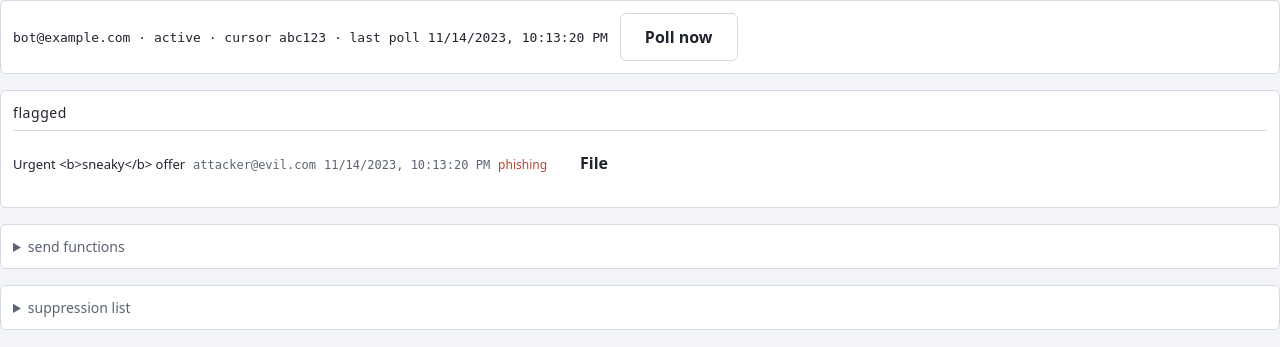
Test: flagged queue renders subject/sender/received/reason as literal text and File refiles the row away
The width and height of the screenshot is (1280, 347).
Expected: the text "Urgent <b>sneaky</b> offer" is shown, top-left (13, 155), bottom-right (185, 173)
Expected: the text "attacker@evil.com" is shown, top-left (193, 158), bottom-right (316, 172)
What coordinates should you click on to do the following:
click the button "File"
I would click on:
 (594, 163)
Its box is top-left (555, 139), bottom-right (633, 187).
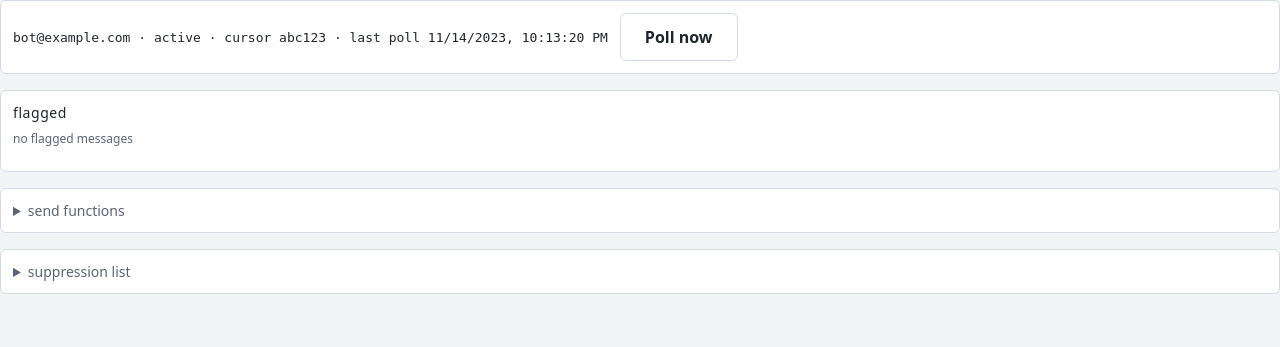
Result: the text "Urgent <b>sneaky</b> offer" is gone
